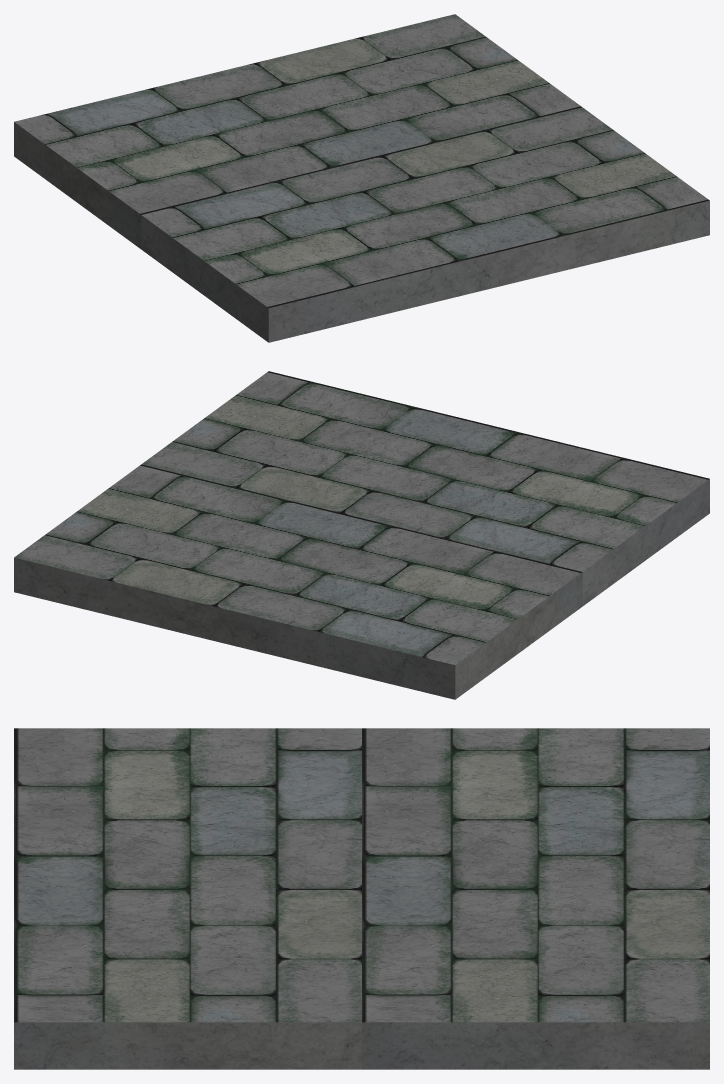
Rendered from floor-large-01.glb.
3 views of the same model, one above another, from view 1: azimuth 30°, elevation 25°; view 2: azimuth 150°, elevation 25°; view 3: azimuth 270°, elevation 25° (orthographic). The views are drawn at different scales.
Visible parts, largest first — view 1: floor_large_01; view 2: floor_large_01; view 3: floor_large_01.
Boxes of the visible parts, x1,y1,x2,y2 form: floor_large_01: (14,14,709,342); floor_large_01: (14,371,709,699); floor_large_01: (14,728,709,1069).
Size of the model in its own units: 4 by 0.3 by 4.
Materials: 1 (1 with a texture image).
